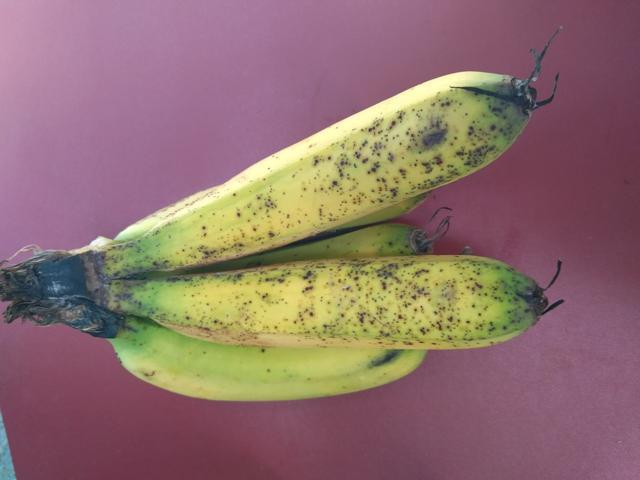ripe: (92, 73, 547, 264), (137, 247, 563, 370)
